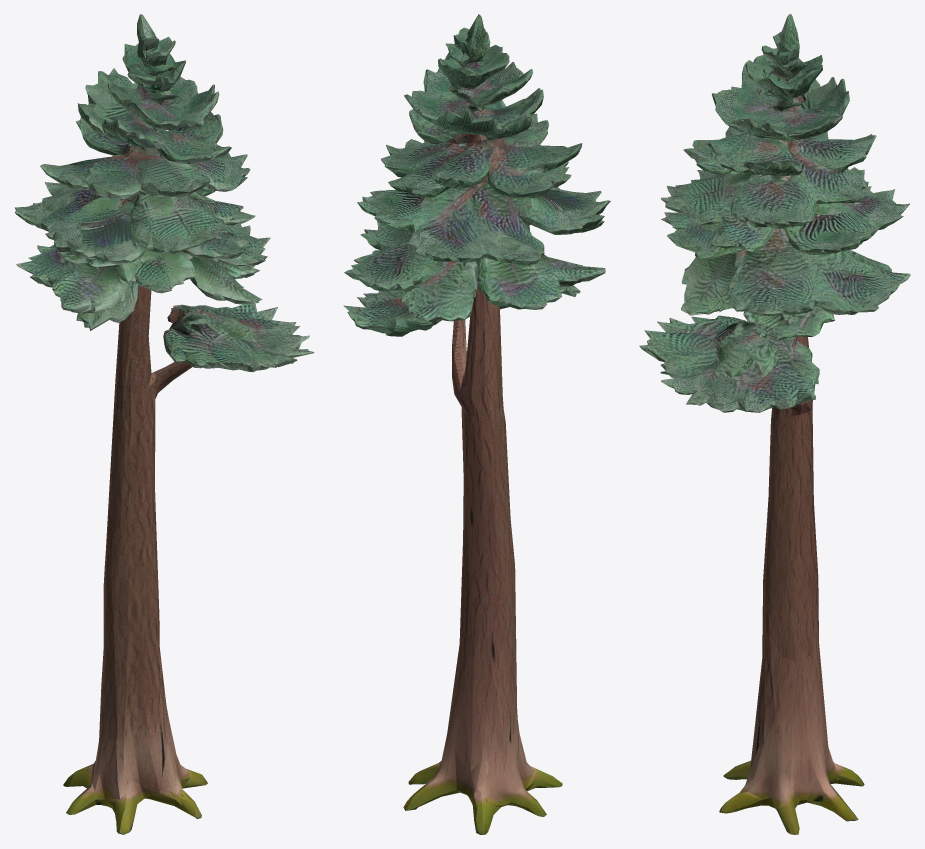
The model's file is Pine.glb.
3 renders of one model, left to right at view 1: azimuth 30°, elevation 25°; view 2: azimuth 150°, elevation 25°; view 3: azimuth 270°, elevation 25°, orthographic.
Bounding box in the file's own units: 2.6 × 8 × 2.5.
Materials: 1 (1 with a texture image).
